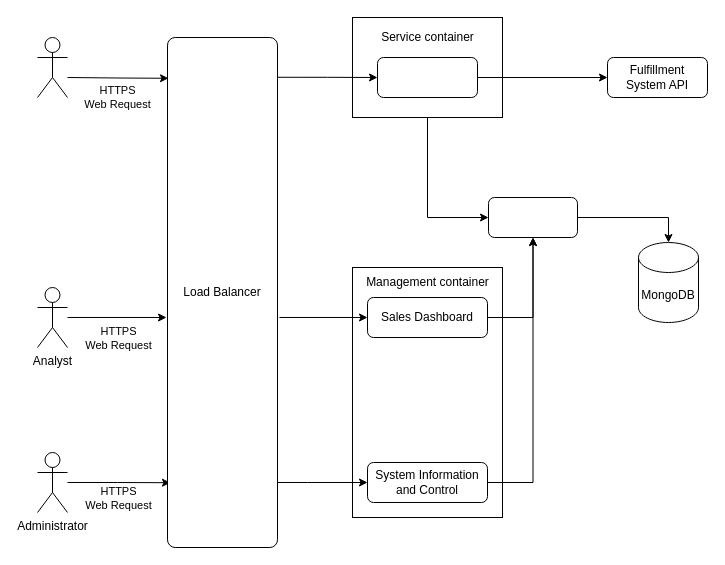
Image size: 725x565. Some labels were removed from this diagram. Each missing label, with the centre of its shape:
End User: (x=52, y=67)
Restful API: (x=533, y=217)
Ticketing Web Server: (x=427, y=77)
